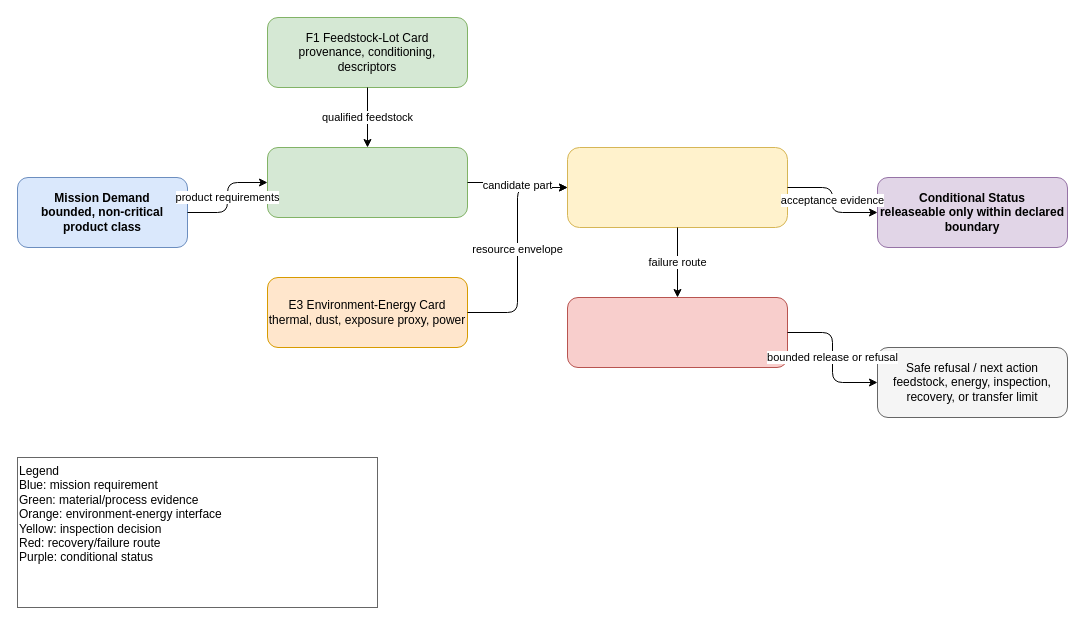
This 1085x625 diagram has some shape labels left out. Here are the shapes that lost their labels. From the top down, the centre of each, then its label:
At point 367,182: "R2 Process-Route Card recipe, consumables, safety window".
At point 677,187: "Q4 Inspection-Release Card measure, threshold, release / rework / quarantine".
At point 677,332: "K5 Recovery Card rework, substitute, imported spare, defer".
